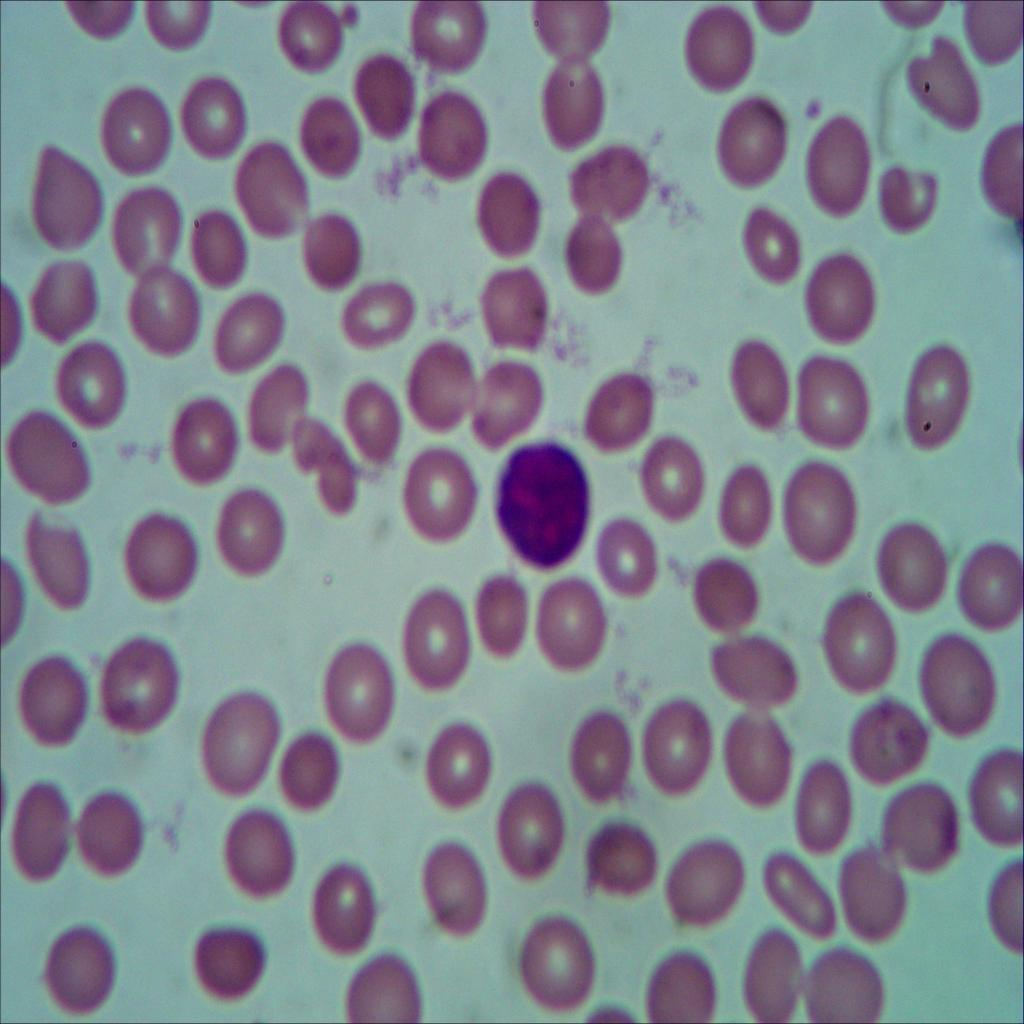Eritrosit: (889, 318, 981, 462), (28, 904, 127, 1024), (184, 678, 286, 794), (316, 625, 408, 750), (88, 630, 186, 747), (774, 450, 868, 571), (874, 769, 969, 885), (68, 778, 156, 900), (870, 509, 962, 622), (902, 28, 990, 146), (221, 134, 317, 240), (802, 108, 886, 227), (817, 582, 907, 693), (799, 242, 888, 354), (669, 0, 761, 106), (836, 836, 914, 961), (509, 909, 604, 1010), (560, 138, 666, 227), (699, 618, 806, 706), (25, 508, 108, 620), (211, 472, 291, 588), (918, 631, 999, 745), (179, 924, 277, 1018), (799, 934, 900, 1024), (502, 780, 575, 902), (217, 804, 304, 905), (280, 408, 361, 516), (400, 576, 476, 691), (709, 90, 799, 187), (411, 86, 493, 192), (796, 349, 878, 455), (418, 714, 500, 820), (761, 840, 844, 944), (5, 406, 95, 501), (640, 688, 713, 804), (114, 504, 199, 603), (28, 151, 110, 252), (268, 723, 350, 824), (56, 330, 134, 436), (15, 650, 95, 753), (534, 572, 616, 672), (95, 76, 173, 181), (660, 834, 749, 926), (560, 692, 634, 802), (951, 539, 1024, 650), (730, 703, 800, 818), (534, 58, 616, 156), (126, 266, 206, 366), (840, 695, 934, 780), (465, 360, 556, 447), (242, 354, 318, 458), (734, 915, 806, 1024), (414, 844, 494, 942), (723, 330, 795, 438), (260, 0, 346, 90), (580, 366, 662, 460), (716, 454, 780, 574), (400, 442, 476, 542), (332, 273, 424, 355), (403, 336, 482, 430), (326, 954, 432, 1024), (582, 814, 664, 904), (474, 166, 554, 258), (734, 202, 810, 296), (216, 284, 295, 374), (396, 0, 495, 71), (15, 780, 77, 893), (112, 184, 182, 284), (308, 863, 384, 955), (30, 256, 110, 342), (350, 48, 423, 142), (526, 0, 615, 76), (301, 86, 367, 188), (170, 394, 239, 488), (968, 745, 1024, 858), (476, 264, 558, 340), (643, 940, 717, 1024), (646, 433, 708, 533), (567, 210, 632, 304), (873, 160, 946, 243), (472, 574, 532, 674), (291, 205, 362, 287), (594, 510, 660, 598), (335, 380, 404, 462), (696, 552, 764, 633), (194, 197, 255, 284), (186, 76, 248, 160), (799, 758, 852, 855)
Limfoblast: (491, 444, 593, 571)
Platelet: (792, 90, 828, 140)
